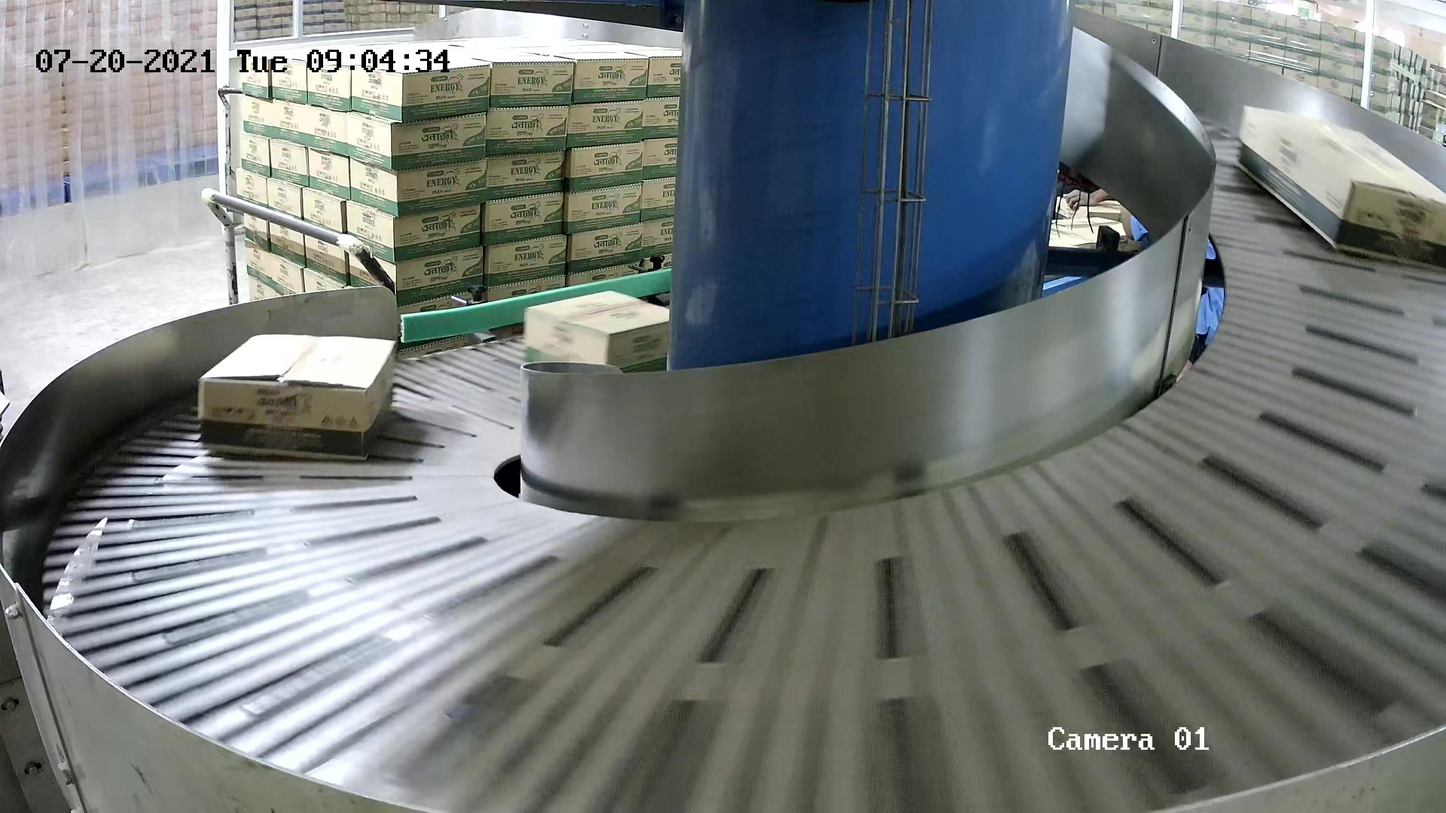Box: (1230, 106, 1446, 274), (197, 332, 393, 464), (523, 290, 688, 389)
